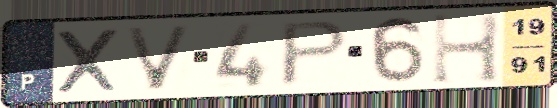4: (210, 20, 275, 91)
6: (366, 14, 427, 86)
H: (429, 11, 506, 87)
P: (276, 18, 354, 90)
V: (121, 23, 196, 93)
X: (52, 26, 123, 96)
